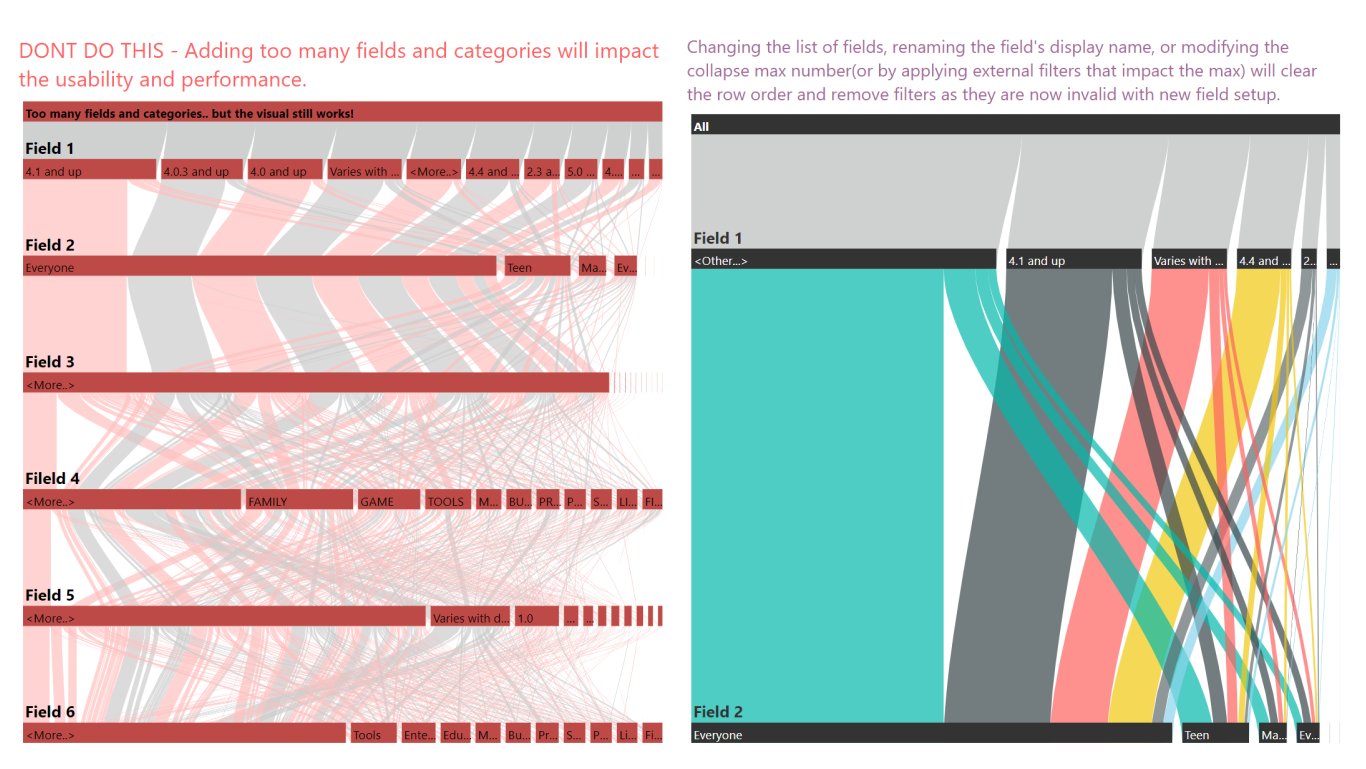

Layout of this report page (visuals, bound fields, positions):
{"tool":"powerbi","page":{"name":"Options and Usage Hints","canvas":[1280,720],"ordinal":3},"visuals":[{"type":"wishyoulizationtassels","fields":{"fields":["Bob Ross.BOAT","Bob Ross.CABIN"],"value":["Bob Ross.EPISODE"]},"box":[226.5,131.8,505.8,290],"z":0}]}

Visuals, with their boxes in screenshot pixels (x1, y1, x2, y2), scaled from the page's 1280x720 canvas onto the 1366x769 screenshot:
wishyoulizationtassels - Bob Ross.BOAT x Bob Ross.CABIN: {"left": 242, "top": 141, "right": 782, "bottom": 451}
